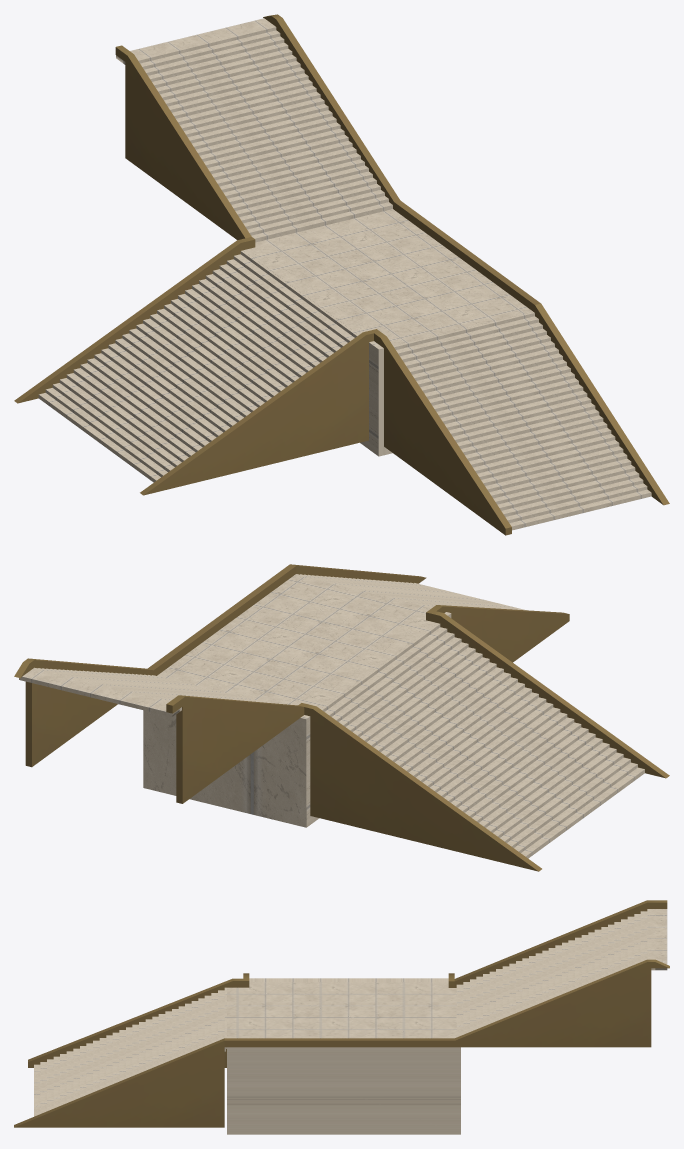
Rendered from SplitStaircase.fbx.
3 renders of one model, top to bottom at view 1: azimuth 30°, elevation 25°; view 2: azimuth 150°, elevation 25°; view 3: azimuth 270°, elevation 25°, orthographic. The views are drawn at different scales.
Visible parts, largest first — view 1: SplitStairsCaps, SplitStairs_1, SplitStairs_3, SplitStairs_2, Cube.028; view 2: SplitStairsCaps, SplitStairs_1, Cube.028, SplitStairs_3, SplitStairs_2; view 3: Cube.028, SplitStairsCaps, SplitStairs_3, SplitStairs_2, SplitStairs_1.
Boxes of the visible parts, left/top/right/bottom form: SplitStairsCaps: left=14, top=14, right=669, bottom=535; SplitStairs_1: left=38, top=250, right=358, bottom=482; SplitStairs_3: left=116, top=18, right=392, bottom=242; SplitStairs_2: left=393, top=312, right=651, bottom=530; Cube.028: left=243, top=209, right=532, bottom=456; SplitStairsCaps: left=14, top=564, right=669, bottom=871; SplitStairs_1: left=321, top=623, right=644, bottom=858; Cube.028: left=143, top=575, right=451, bottom=827; SplitStairs_3: left=19, top=667, right=264, bottom=717; SplitStairs_2: left=295, top=574, right=526, bottom=610; Cube.028: left=227, top=983, right=460, bottom=1134; SplitStairsCaps: left=14, top=900, right=669, bottom=1127; SplitStairs_3: left=456, top=909, right=667, bottom=1037; SplitStairs_2: left=34, top=987, right=226, bottom=1116; SplitStairs_1: left=249, top=978, right=448, bottom=982.
Size of what is drawn, in the model's own units: 5547 by 2897 by 9970.
